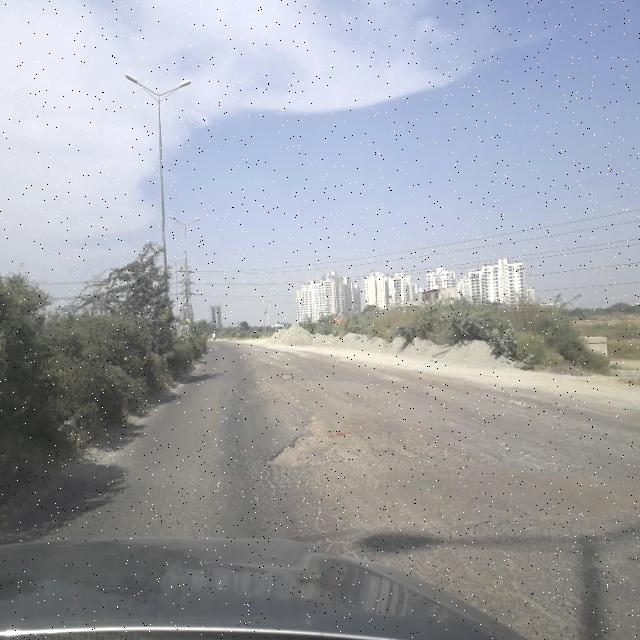D00: (501, 551, 591, 639)
D20: (214, 400, 640, 532), (340, 535, 640, 639)
D40: (262, 404, 536, 469), (271, 365, 297, 395), (378, 362, 403, 391)
